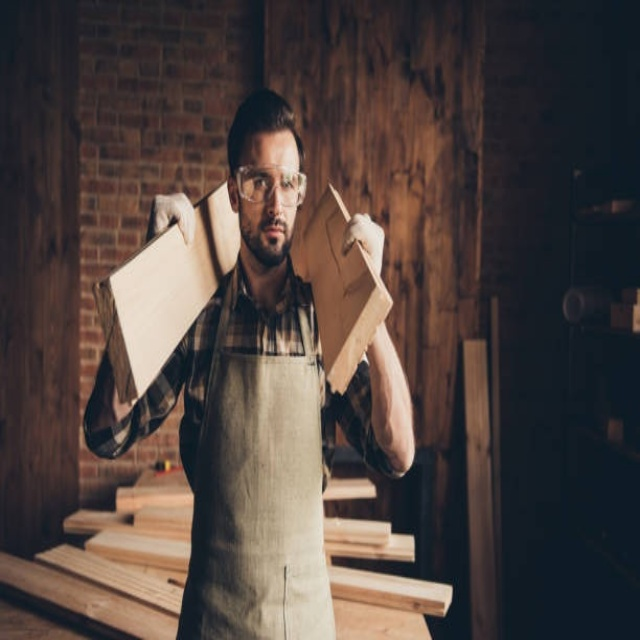Gafas: (235, 166, 307, 207)
Sin_guantes: (143, 184, 202, 253), (342, 212, 386, 273)
Sin_mascara: (253, 215, 293, 262)
